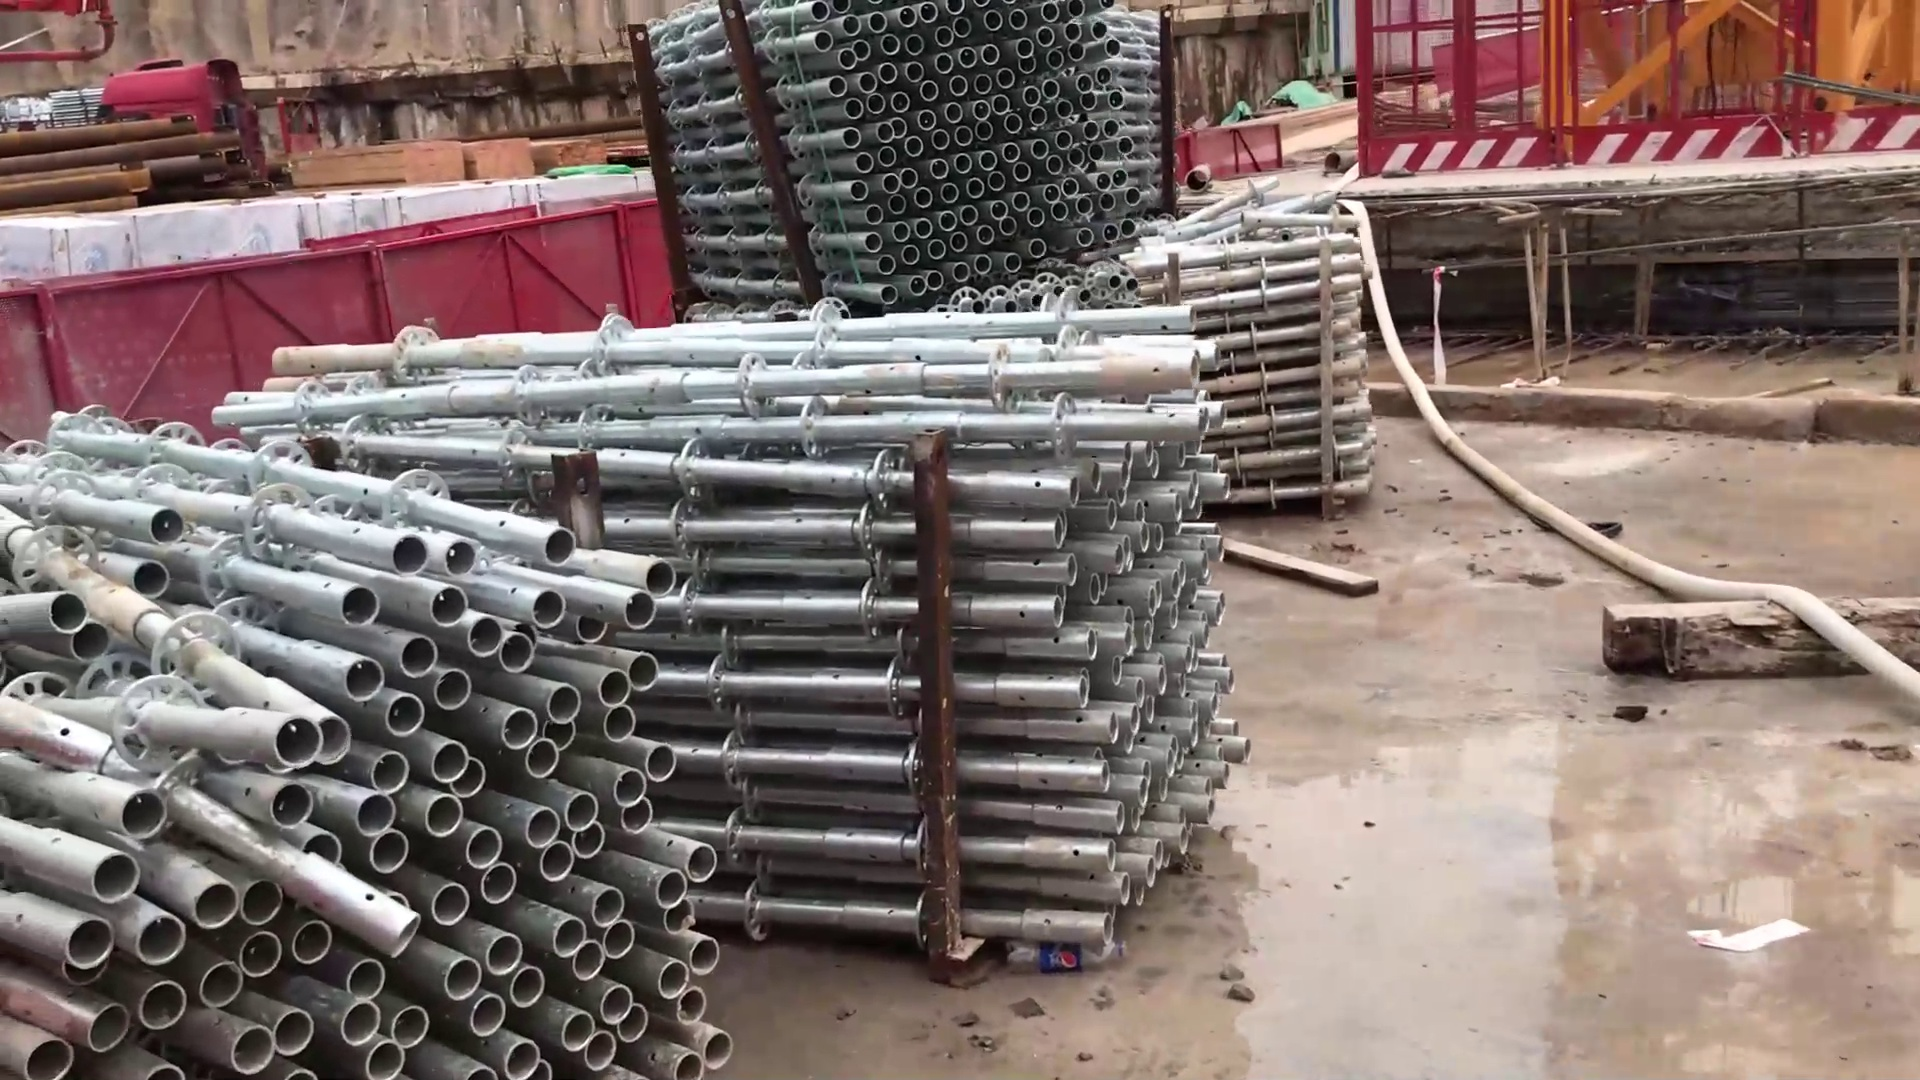fence: (293, 208, 665, 332)
scaffold: (7, 309, 1255, 1080), (655, 1, 1166, 291), (1215, 196, 1391, 516)
wood: (285, 135, 547, 200)
